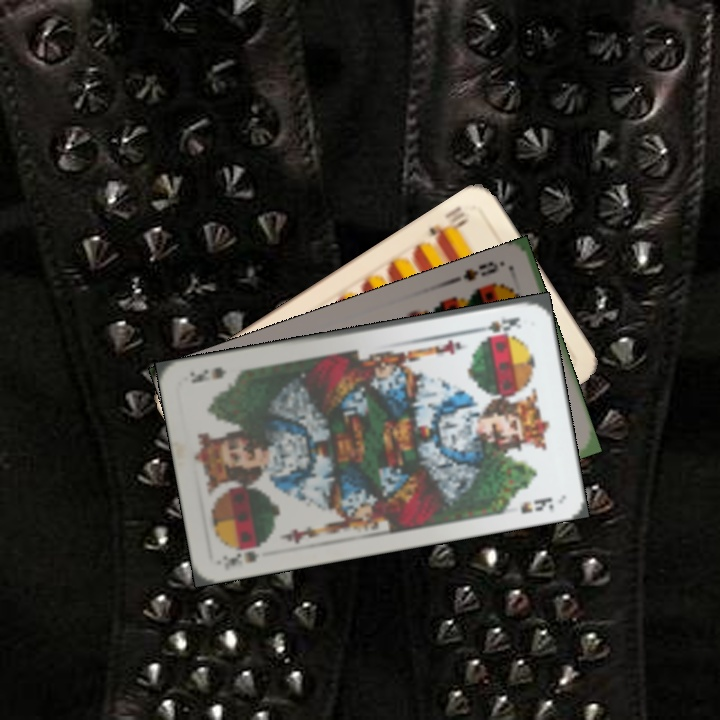E10: (424, 201, 471, 245)
S8: (459, 257, 501, 283)
SK: (218, 538, 271, 573), (469, 313, 524, 336)
